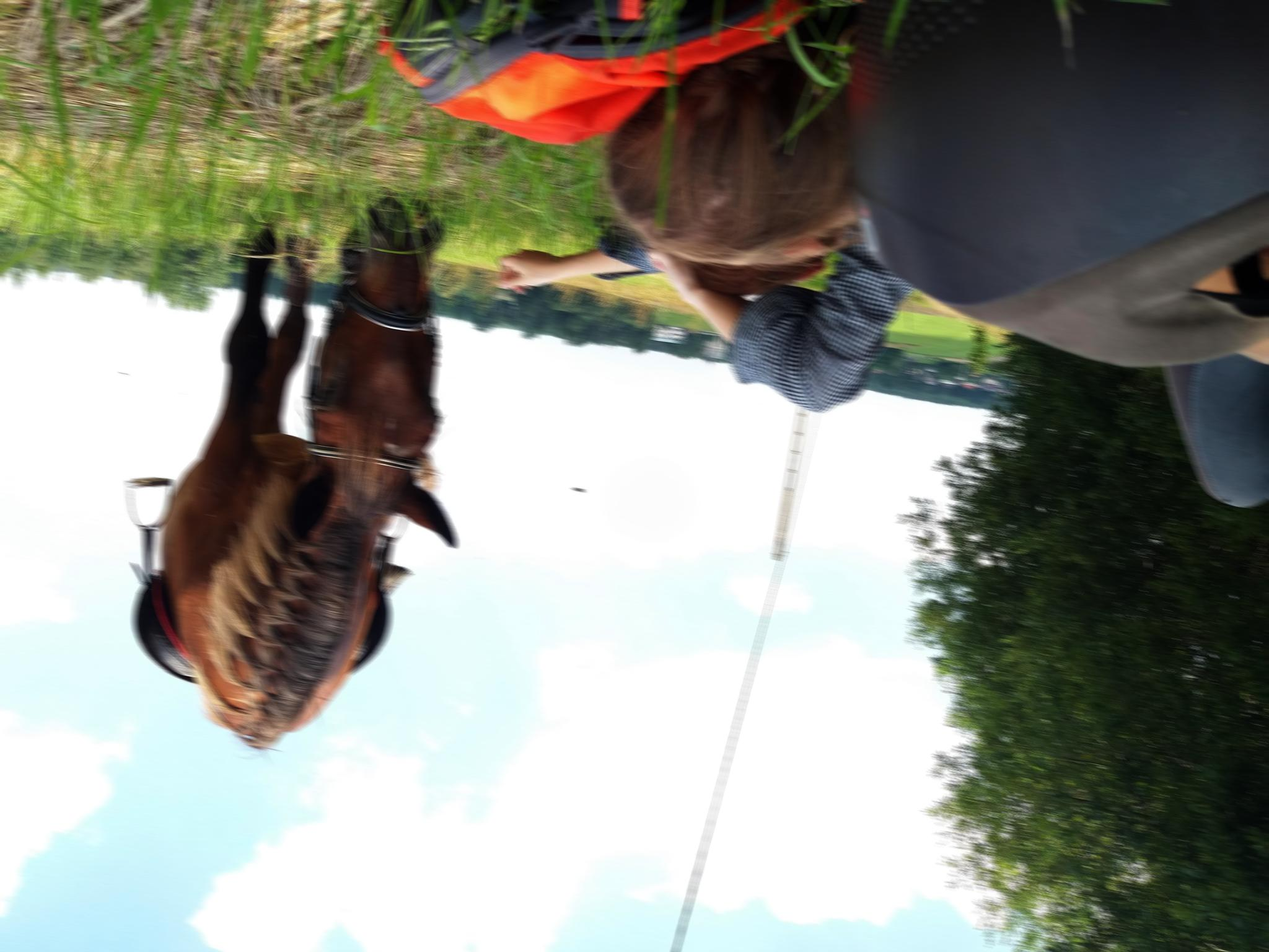horse: (151, 190, 457, 750)
